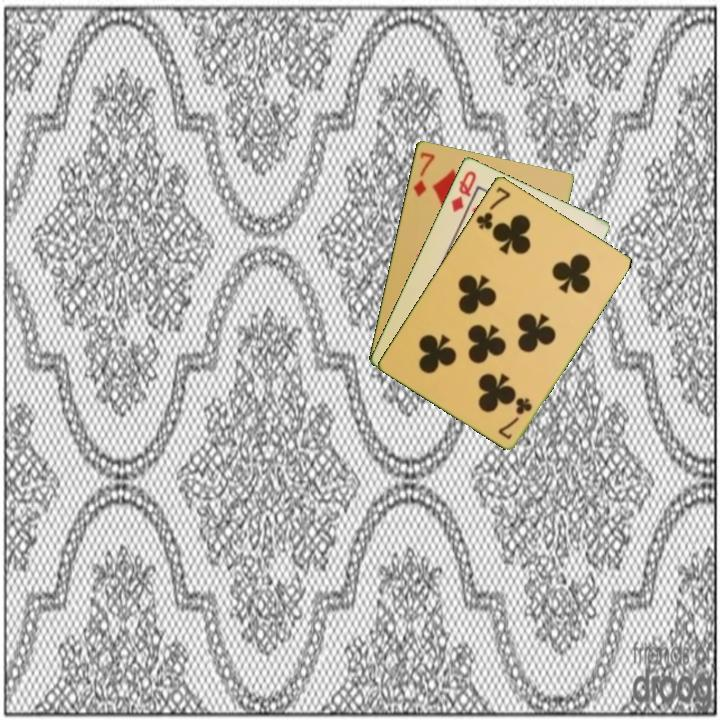7c: (472, 183, 513, 232), (494, 393, 535, 442)
7d: (410, 148, 438, 199)
Qd: (447, 166, 479, 215)
